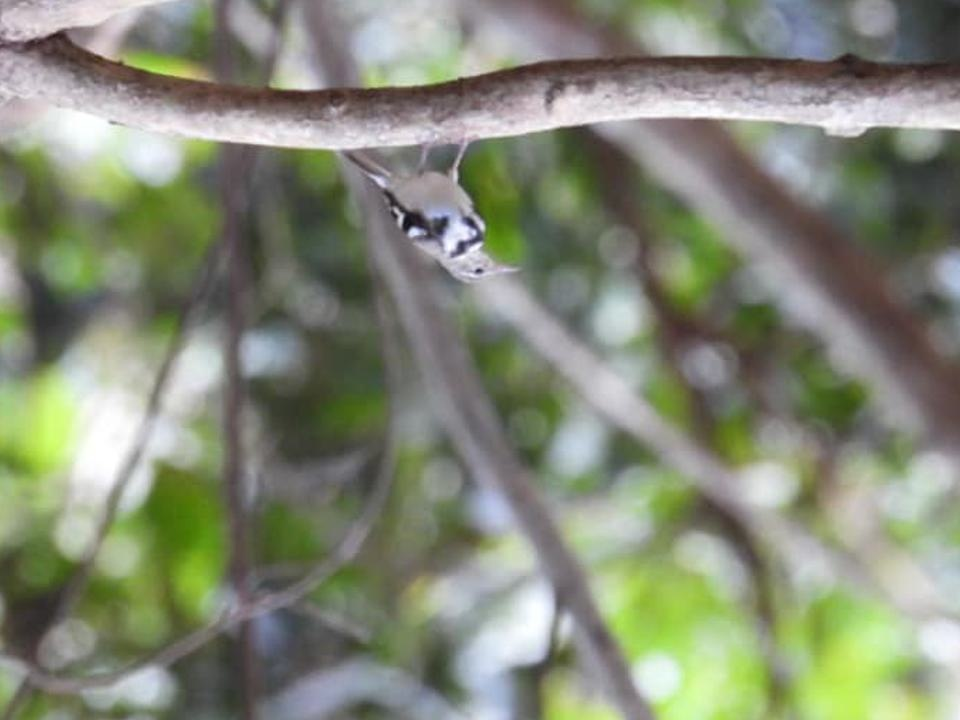wagtail: (337, 122, 523, 297)
